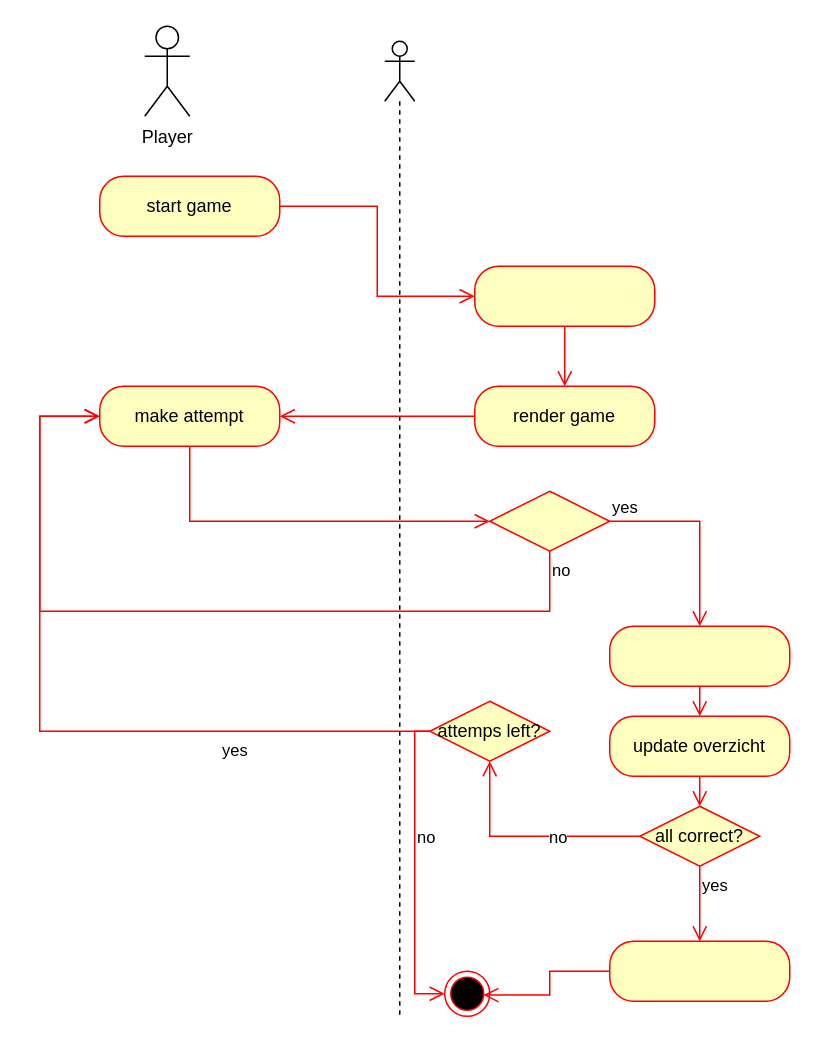
Image size: 816x1043. Some labels were removed from this diagram. The centre of each missing label's shape, as x and y in pixels:
"check correct characters and show and color attempt" goes at [699,655].
"get new equation" goes at [564,295].
"Is legal" goes at [549,520].
"show success" goes at [699,970].
